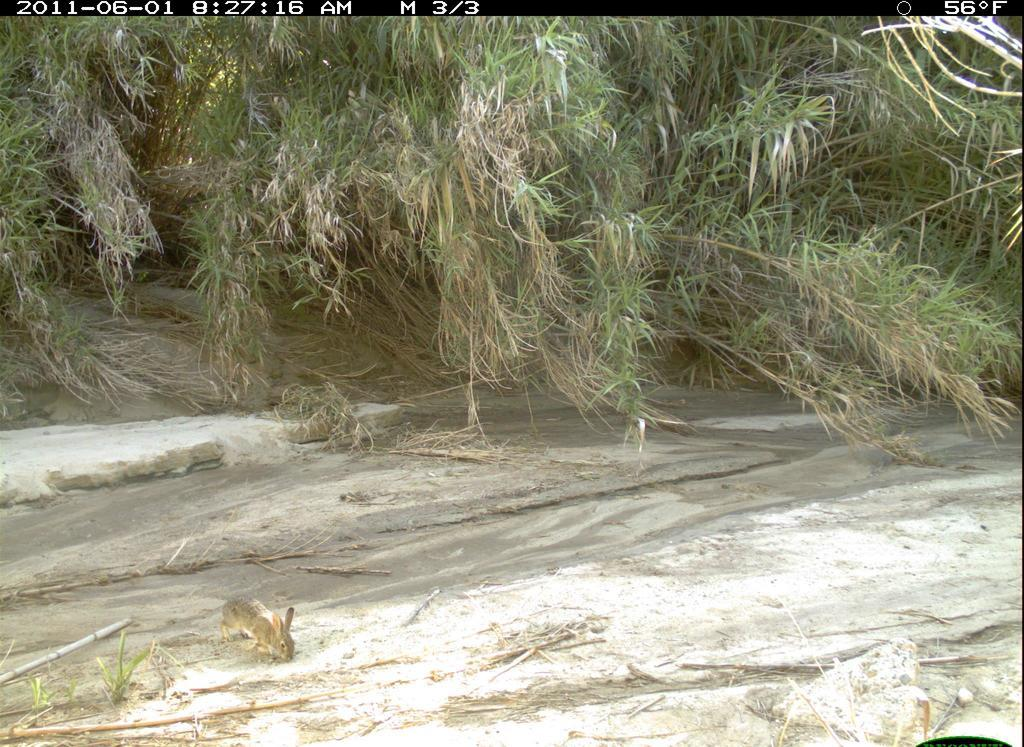rabbit: (218, 587, 301, 667)
